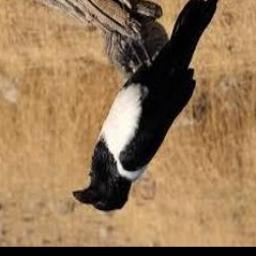Crow: (72, 0, 220, 211)
